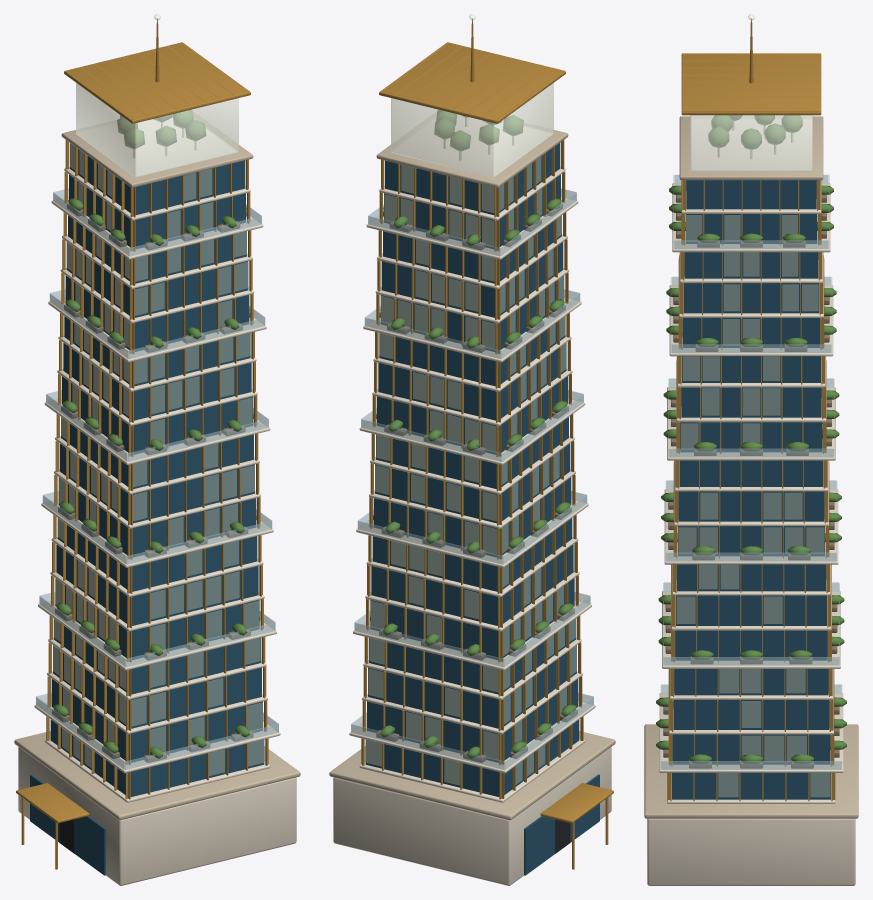
The model's file is career_tower.glb.
3 views of the same model, side by side, from view 1: azimuth 30°, elevation 25°; view 2: azimuth 150°, elevation 25°; view 3: azimuth 270°, elevation 25° (orthographic).
Visible parts, largest first — view 1: tower_glass_panes, tower_stone, tower_fins, tower_lit_panes, tower_railings, tower_sky_garden, tower_greenery, tower_planters; view 2: tower_glass_panes, tower_stone, tower_fins, tower_lit_panes, tower_railings, tower_sky_garden, tower_greenery, tower_planters; view 3: tower_glass_panes, tower_stone, tower_fins, tower_lit_panes, tower_railings, tower_greenery, tower_sky_garden, tower_planters.
Boxes of the visible parts, x1=… form: tower_glass_panes: x1=30, y1=149, x2=264, y2=875; tower_stone: x1=14, y1=112, x2=300, y2=885; tower_fins: x1=16, y1=18, x2=268, y2=869; tower_lit_panes: x1=53, y1=143, x2=263, y2=775; tower_railings: x1=36, y1=188, x2=278, y2=769; tower_sky_garden: x1=76, y1=83, x2=238, y2=177; tower_greenery: x1=53, y1=110, x2=249, y2=758; tower_planters: x1=52, y1=203, x2=259, y2=762; tower_glass_panes: x1=365, y1=143, x2=599, y2=875; tower_stone: x1=329, y1=112, x2=615, y2=885; tower_fins: x1=361, y1=18, x2=613, y2=869; tower_lit_panes: x1=366, y1=157, x2=576, y2=785; tower_railings: x1=351, y1=188, x2=593, y2=769; tower_sky_garden: x1=391, y1=83, x2=553, y2=177; tower_greenery: x1=380, y1=110, x2=576, y2=758; tower_planters: x1=370, y1=203, x2=577, y2=762; tower_glass_panes: x1=672, y1=180, x2=830, y2=799; tower_stone: x1=644, y1=116, x2=858, y2=885; tower_fins: x1=667, y1=18, x2=835, y2=801; tower_lit_panes: x1=672, y1=180, x2=830, y2=797; tower_railings: x1=660, y1=174, x2=842, y2=769; tower_greenery: x1=656, y1=115, x2=846, y2=763; tower_sky_garden: x1=690, y1=115, x2=812, y2=171; tower_planters: x1=663, y1=194, x2=839, y2=768.
Bounding box in the file's own units: 26.3 × 96.45 × 22.6.
